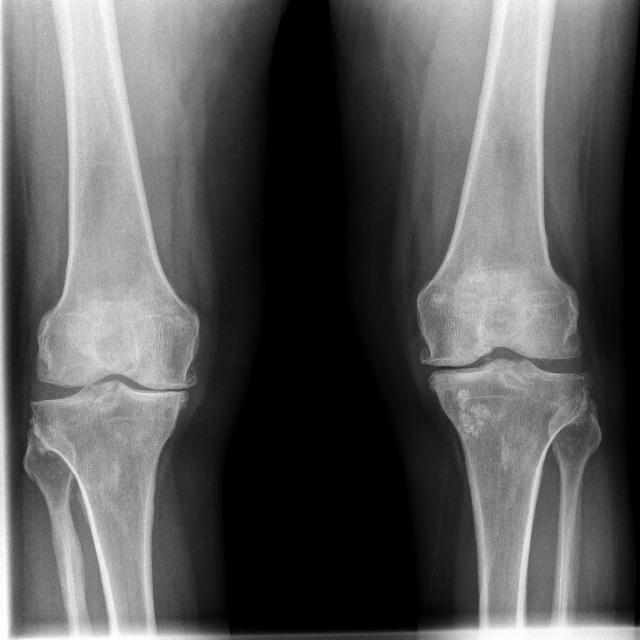Knee: (24, 310, 201, 469), (410, 288, 587, 439)
